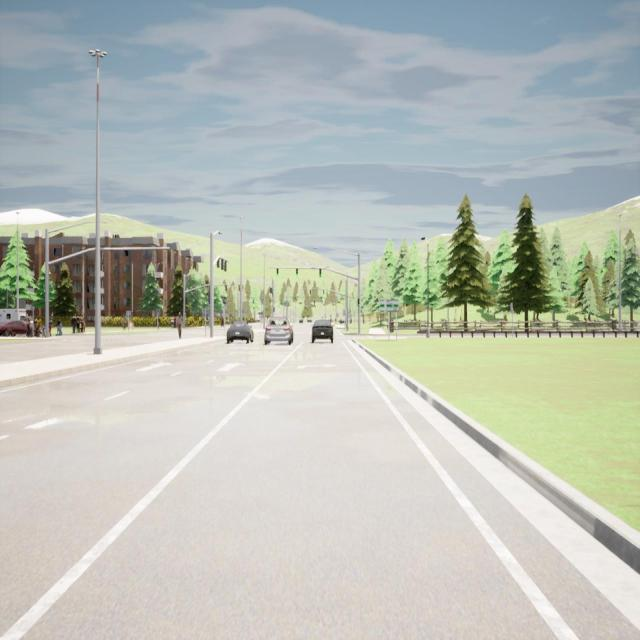Pedestrian: (176, 312, 184, 339), (24, 311, 32, 338), (37, 318, 43, 337), (121, 314, 127, 331), (34, 315, 38, 337), (49, 315, 53, 337), (56, 318, 60, 337), (72, 316, 76, 334), (76, 315, 80, 333), (59, 320, 63, 335), (80, 316, 83, 332), (221, 316, 225, 327), (173, 316, 176, 328), (83, 321, 86, 332)
Traffic_Signs: (380, 300, 398, 312), (202, 309, 208, 317), (126, 311, 131, 317), (156, 309, 159, 315)
Vehicle: (264, 316, 294, 346), (227, 320, 254, 344), (312, 320, 334, 344), (0, 320, 28, 337), (0, 309, 33, 323)
traffic_light: (221, 258, 224, 270), (224, 260, 227, 272), (276, 268, 279, 277), (319, 268, 322, 277), (357, 298, 360, 307), (217, 258, 219, 268), (296, 268, 298, 277), (269, 287, 272, 293), (238, 285, 240, 291), (309, 289, 311, 294), (273, 307, 275, 312), (226, 285, 227, 291), (323, 289, 324, 294)
